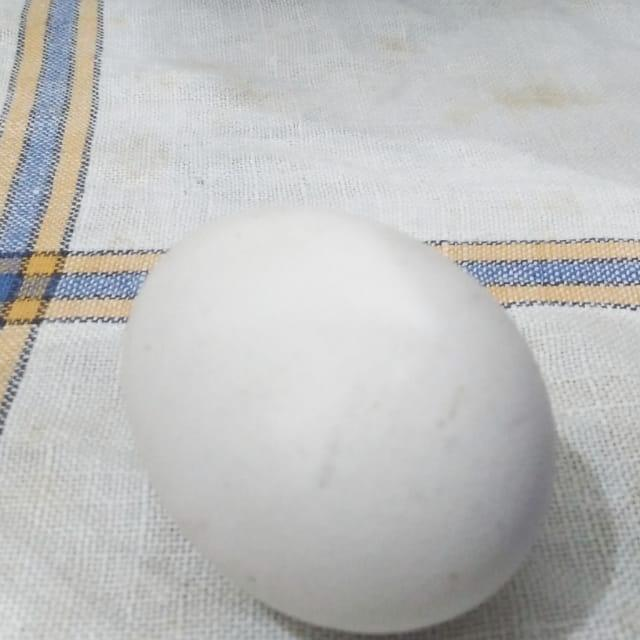egg: (116, 200, 561, 638)
